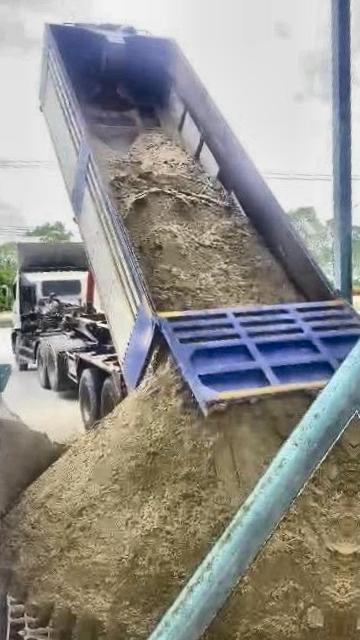sand: (1, 339, 310, 640), (102, 131, 302, 310), (202, 425, 355, 640), (0, 417, 63, 513)
